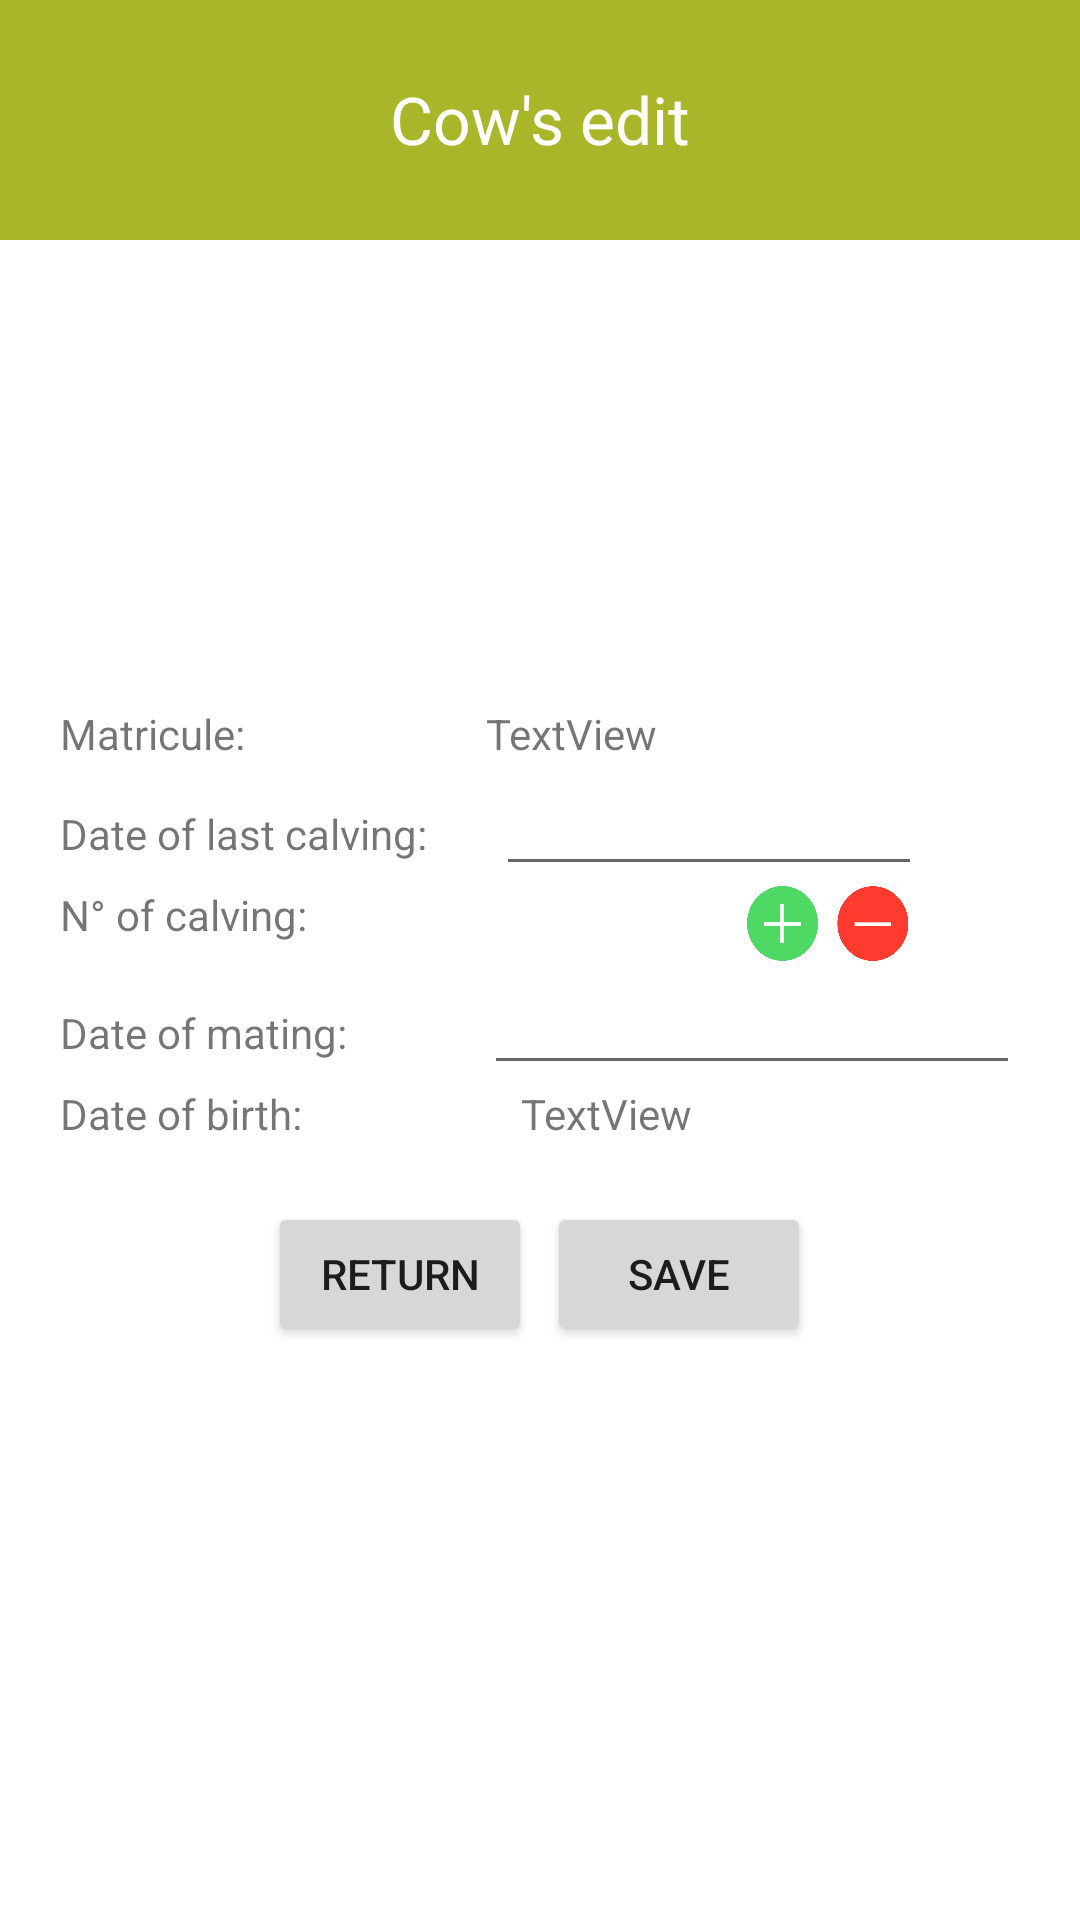

Icons on this 1080x1920 Android screen, each with the point to tap as (x,y):
addd: (782,923)
rem: (872,923)
